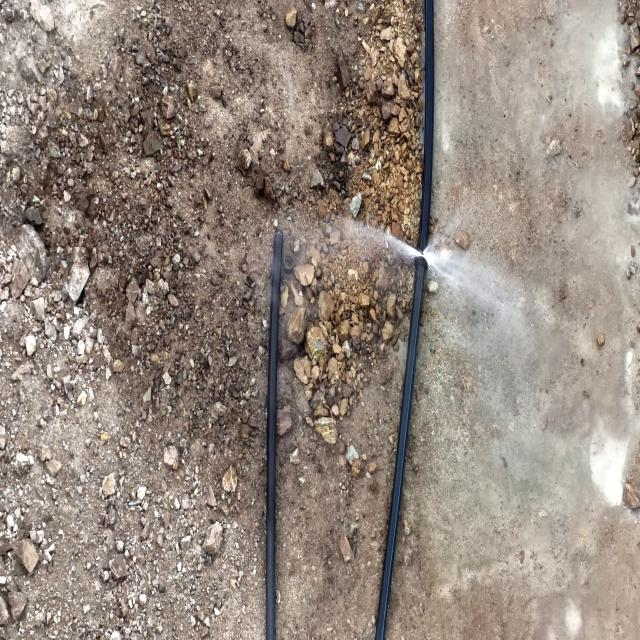leak: (322, 194, 506, 320)
